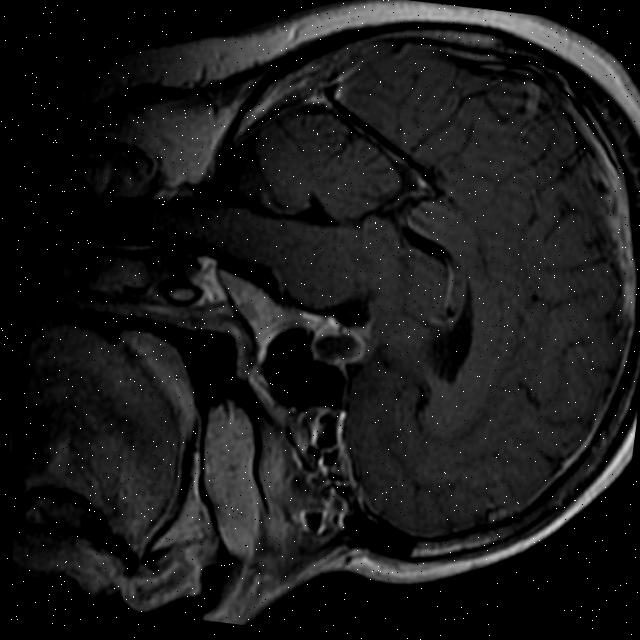Pituitary: (307, 328, 366, 370)
